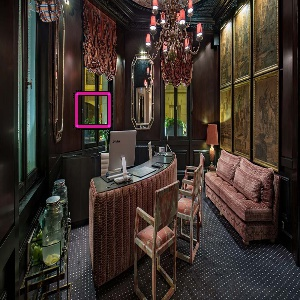square: (73, 91, 113, 130)
